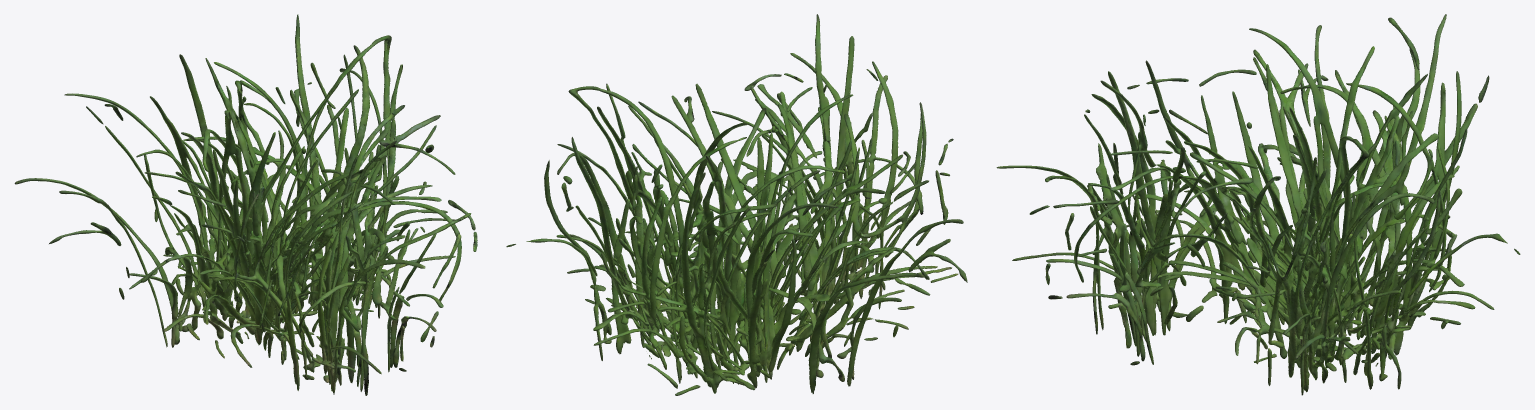
File: grass.glb
3 renders of one model, left to right at view 1: azimuth 30°, elevation 25°; view 2: azimuth 150°, elevation 25°; view 3: azimuth 270°, elevation 25°, orthographic. The views are drawn at different scales.
Bounding box in the file's own units: 1.88 × 1.17 × 1.97.
Materials: 1 (1 with a texture image).
